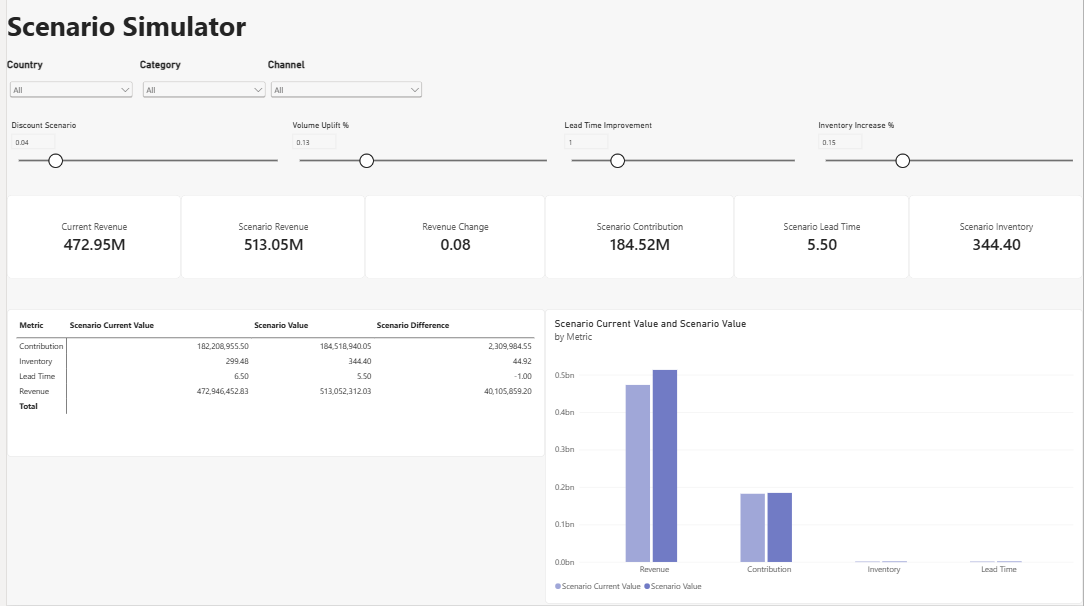

The page's visual inventory and layout, read from the dashboard file:
{"tool":"powerbi","page":{"name":"07 Scenario Simulator","canvas":[1920,1080],"ordinal":6},"visuals":[{"type":"textbox","box":[0,14.3,444.3,110.6],"z":0},{"type":"slicer","fields":{"Values":["Volume Uplift % 2.Volume Uplift %"]},"box":[501.4,217.7,480,157],"z":1000},{"type":"slicer","fields":{"Values":["Discount Scenario.Discount Scenario"]},"box":[0,217.7,501.4,149.9],"z":2000},{"type":"slicer","fields":{"Values":["Lead Time Improvement 2.Lead Time Improvement"]},"box":[986.8,217.7,437.2,149.9],"z":3000},{"type":"slicer","fields":{"Values":["Inventory Increase % 2.Inventory Increase %"]},"box":[1440,217.7,480,149.9],"z":4000},{"type":"cardVisual","fields":{"Data":["_Measures.Net Sales"]},"box":[0,349.7,310.5,149.9],"z":5000},{"type":"cardVisual","fields":{"Data":["_Measures.Scenario Revenue"]},"box":[310.5,349.7,328.3,149.9],"z":6000},{"type":"cardVisual","fields":{"Data":["_Measures.Scenario Revenue Change %"]},"box":[638.8,349.7,321.2,149.9],"z":7000},{"type":"cardVisual","fields":{"Data":["_Measures.Scenario Contribution"]},"box":[960,349.7,337.2,149.9],"z":8000},{"type":"cardVisual","fields":{"Data":["_Measures.Scenario Lead Time"]},"box":[1297.2,349.7,312.3,149.9],"z":9000},{"type":"cardVisual","fields":{"Data":["_Measures.Scenario Inventory"]},"box":[1609.5,349.7,310.5,149.9],"z":10000},{"type":"pivotTable","fields":{"Rows":["Scenario Metrics.Metric"],"Values":["_Measures.Scenario Current Value","_Measures.Scenario Value","_Measures.Scenario Difference"]},"box":[0,553.2,960,264.1],"z":11000},{"type":"clusteredColumnChart","fields":{"Category":["Scenario Metrics.Metric"],"Y":["_Measures.Scenario Current Value","_Measures.Scenario Value"]},"box":[960,553.2,960,526.4],"z":12000},{"type":"slicer","title":"Country","fields":{"Values":["DimStore.country"]},"box":[0,105.3,229,150],"z":13000},{"type":"slicer","title":"Category","fields":{"Values":["DimProduct.category"]},"box":[237.3,105.3,229,150],"z":14000},{"type":"slicer","title":"Channel","fields":{"Values":["DimStore.channel"]},"box":[465.7,105.3,280,150],"z":15000}]}

Visuals, with their boxes in screenshot pixels (x1, y1, x2, y2), scaled from the page's 1920x1080 canvas onto the 1085x606 screenshot:
textbox: (0, 8, 251, 70)
slicer - Volume Uplift % 2.Volume Uplift %: (283, 122, 555, 210)
slicer - Discount Scenario.Discount Scenario: (0, 122, 283, 206)
slicer - Lead Time Improvement 2.Lead Time Improvement: (558, 122, 805, 206)
slicer - Inventory Increase % 2.Inventory Increase %: (814, 122, 1084, 206)
cardVisual - _Measures.Net Sales: (0, 196, 175, 280)
cardVisual - _Measures.Scenario Revenue: (175, 196, 361, 280)
cardVisual - _Measures.Scenario Revenue Change %: (361, 196, 542, 280)
cardVisual - _Measures.Scenario Contribution: (542, 196, 733, 280)
cardVisual - _Measures.Scenario Lead Time: (733, 196, 910, 280)
cardVisual - _Measures.Scenario Inventory: (910, 196, 1084, 280)
pivotTable - Scenario Metrics.Metric x _Measures.Scenario Current Value: (0, 310, 542, 459)
clusteredColumnChart - Scenario Metrics.Metric x _Measures.Scenario Current Value: (542, 310, 1084, 605)
"Country" slicer: (0, 59, 129, 143)
"Category" slicer: (134, 59, 264, 143)
"Channel" slicer: (263, 59, 421, 143)
